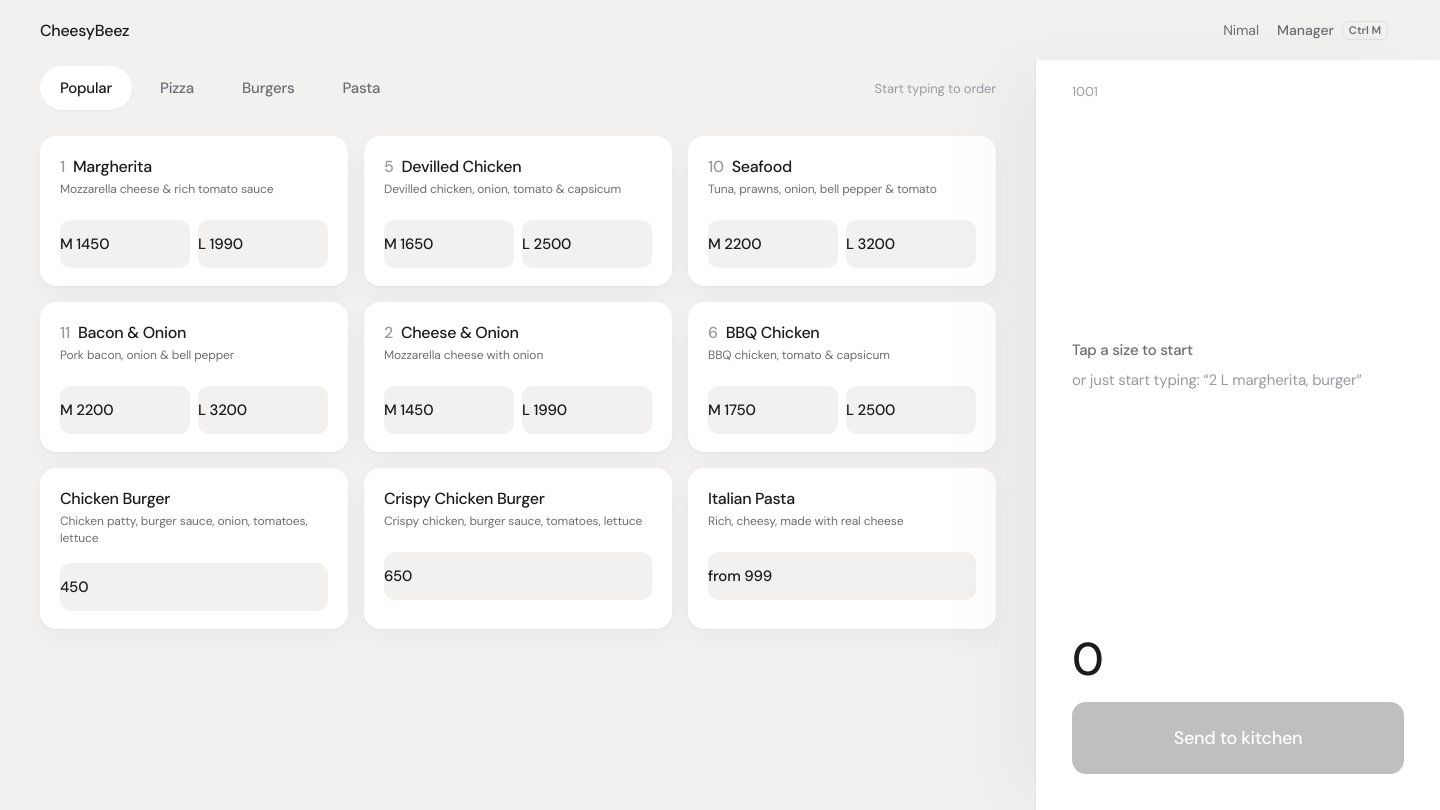
a failed print says so quietly, and Print again retries
What coordinates should you click on to do the following:
click the 1st button "L 2500"
I would click on:
 (587, 244)
Its box is [522, 220, 652, 268].
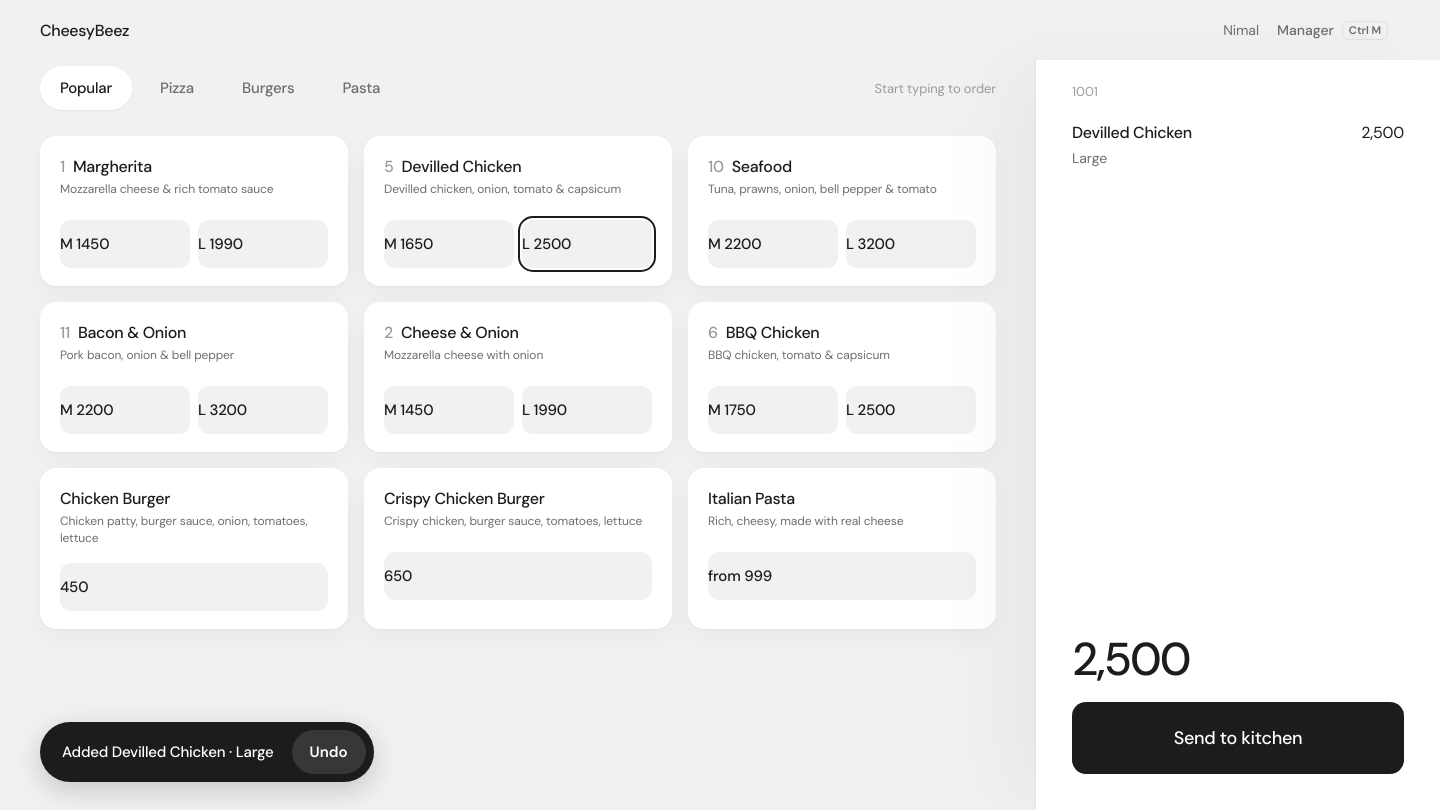
What coordinates should you click on to do the following:
click the button "Send to kitchen"
I would click on:
 (1238, 738)
Its box is [1072, 702, 1404, 774].
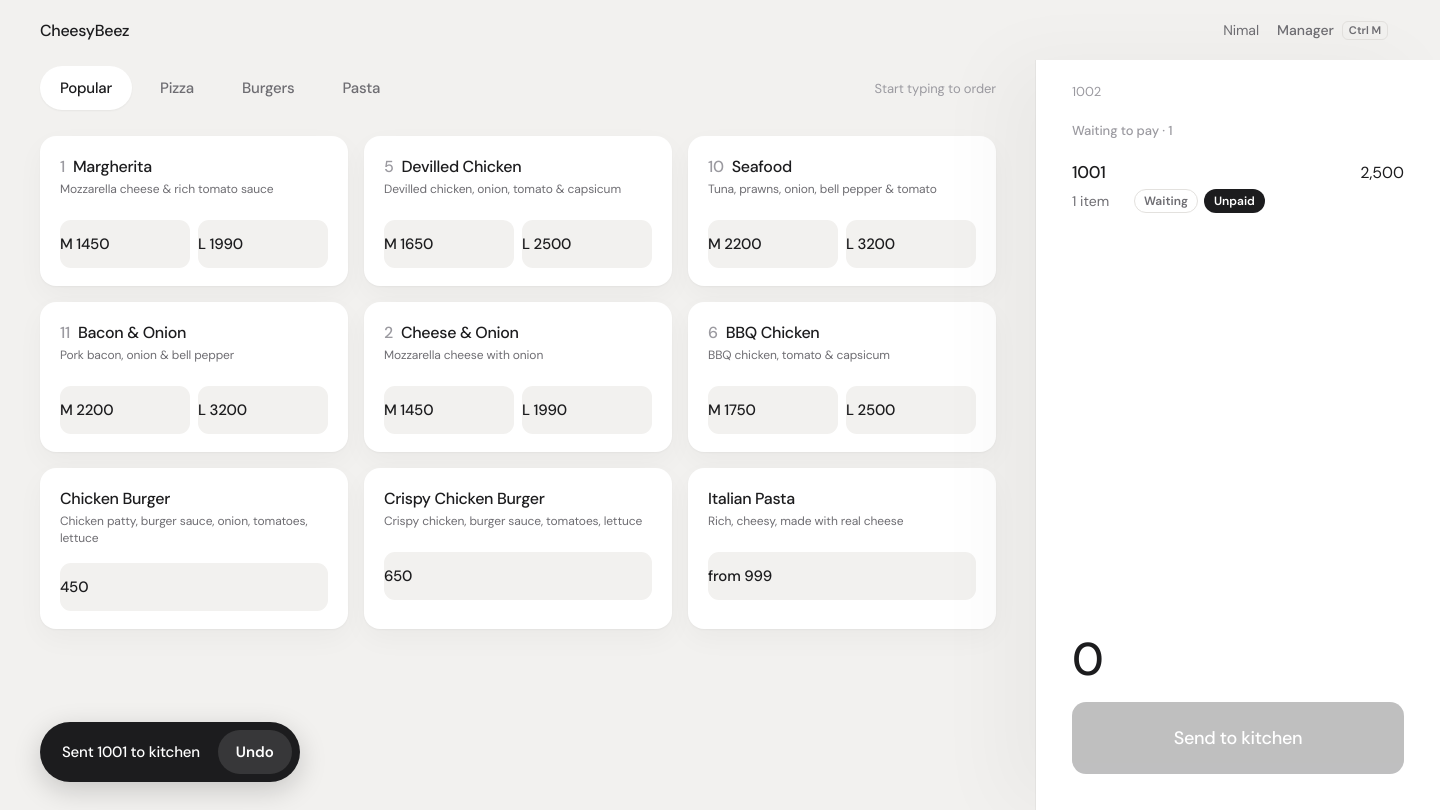
What coordinates should you click on to do the following:
click the button "1001 2,500 1 item Waiting Unpaid"
I would click on:
 (1238, 187)
Its box is [1058, 151, 1418, 223].
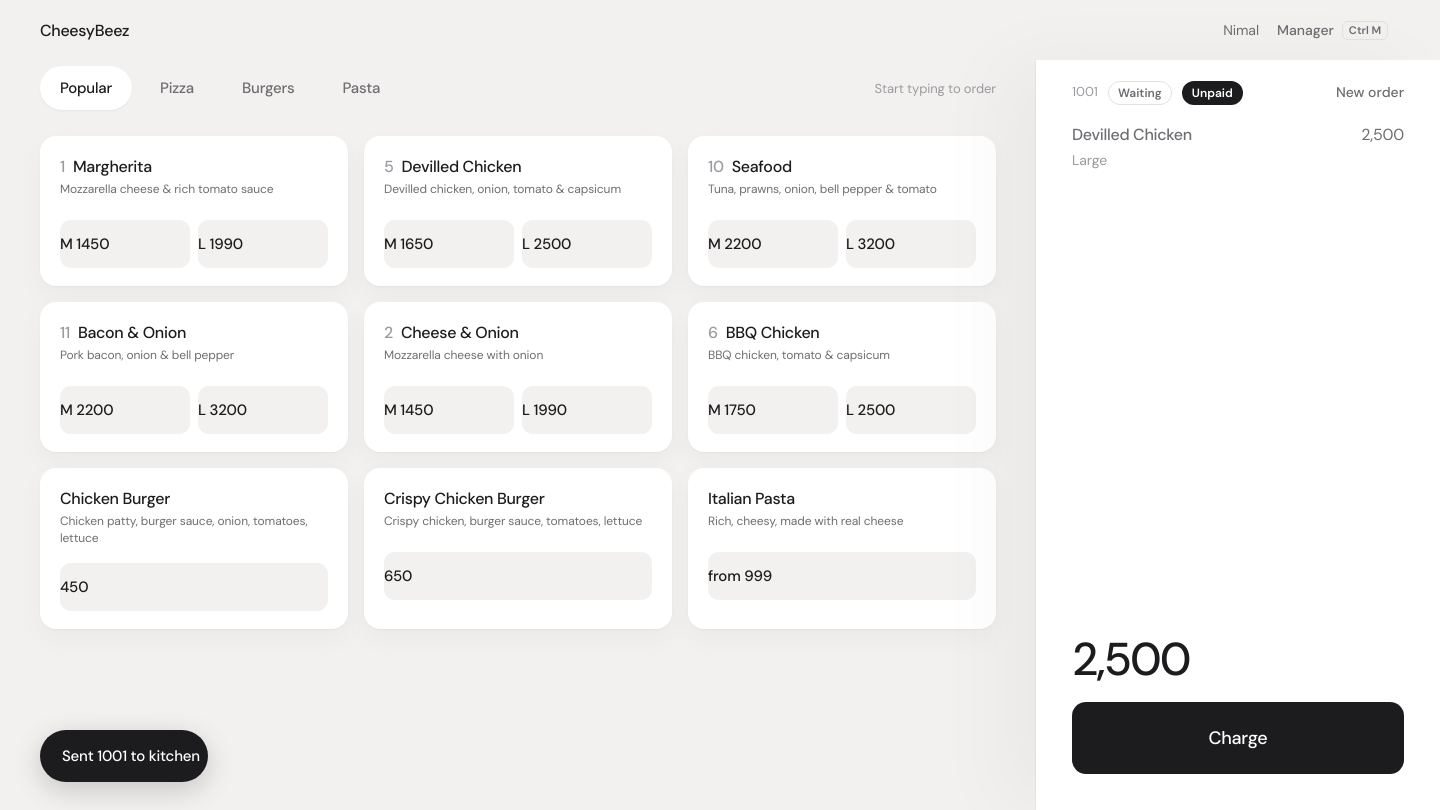
What coordinates should you click on to do the following:
click the button "Charge"
I would click on:
 (1238, 738)
Its box is [1072, 702, 1404, 774].
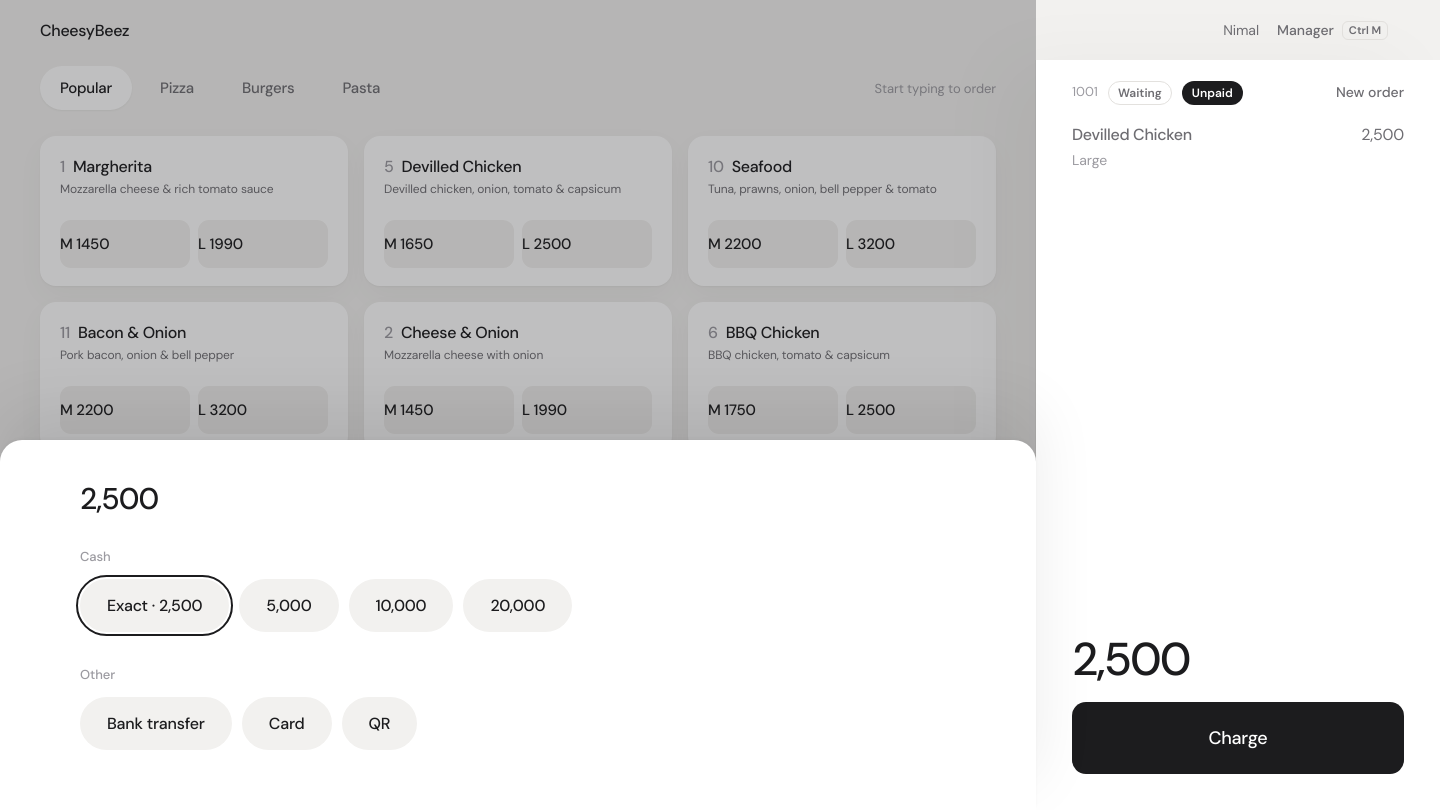
What coordinates should you click on to do the following:
click the button "Bank transfer"
I would click on:
 (156, 724)
Its box is [80, 697, 232, 750].
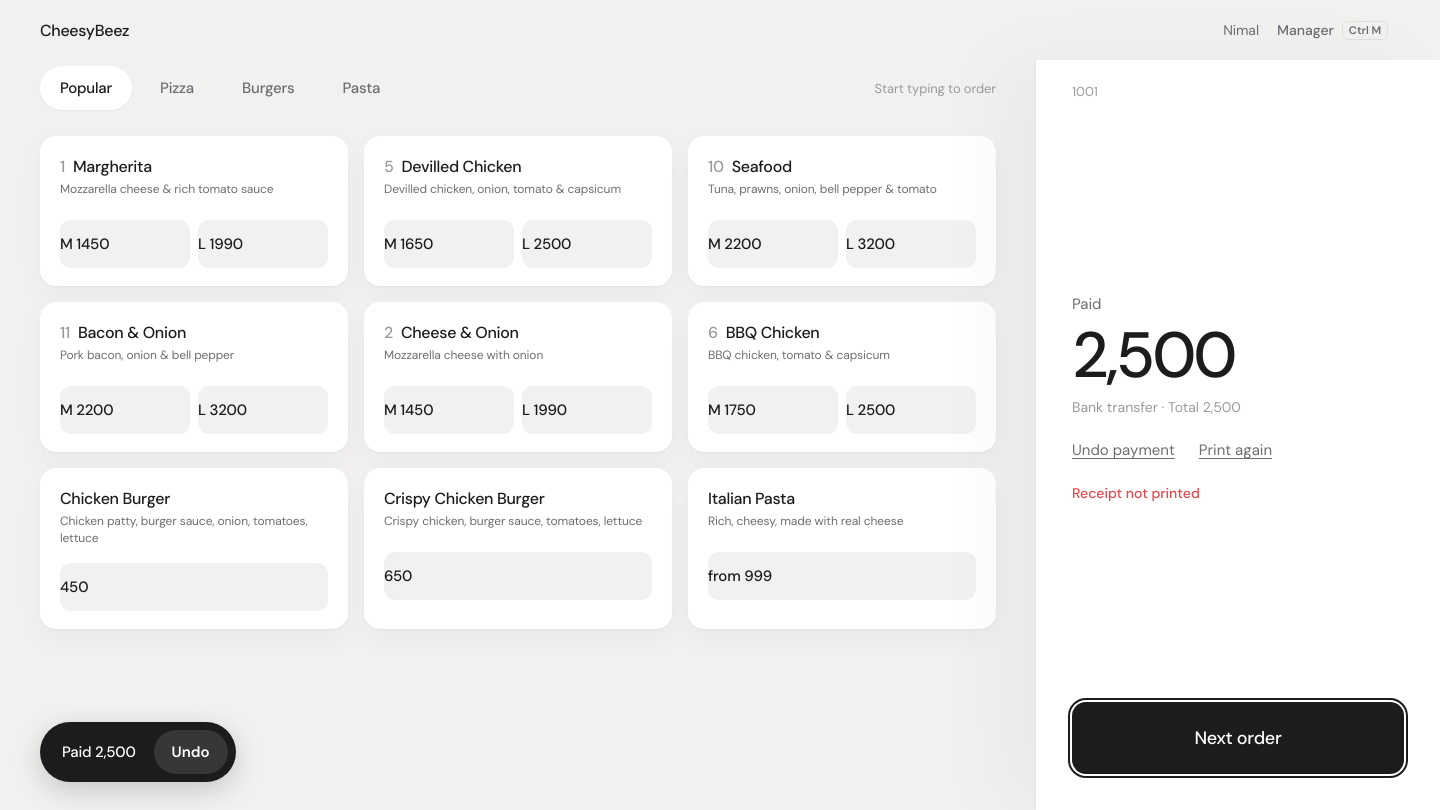
Result: the text "Receipt not printed" is shown at [1072, 484, 1200, 502]
What coordinates should you click on to do the following:
click the button "Print again"
I would click on:
 (1235, 450)
Its box is [1199, 426, 1272, 474].
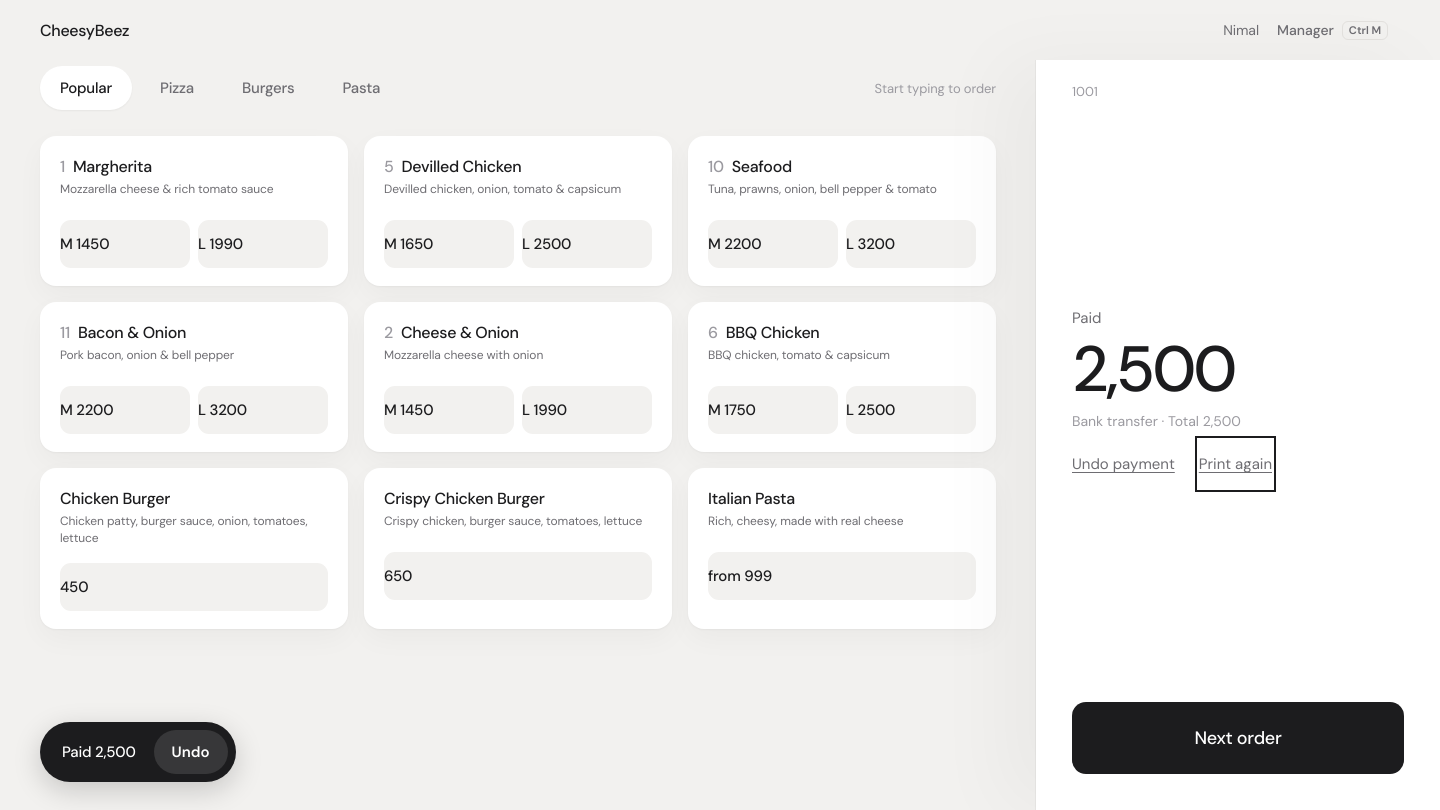
Result: the text "Receipt not printed" is gone
